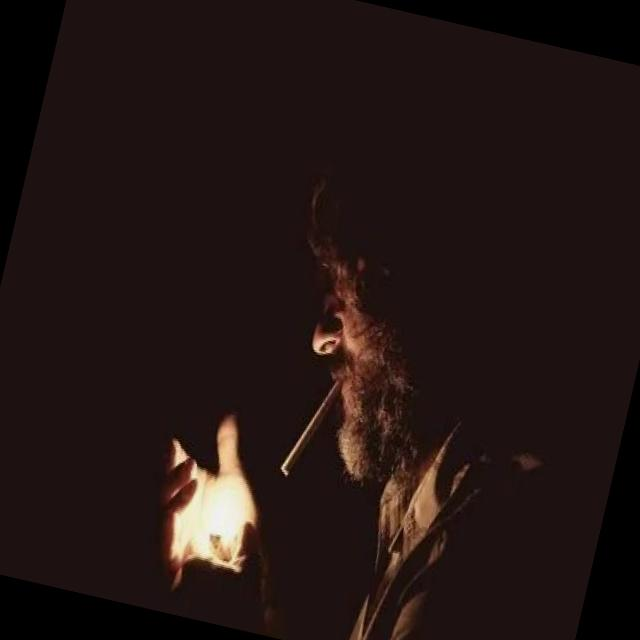smoke: (274, 367, 349, 493)
